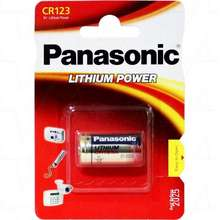Battery: (75, 130, 145, 169)
